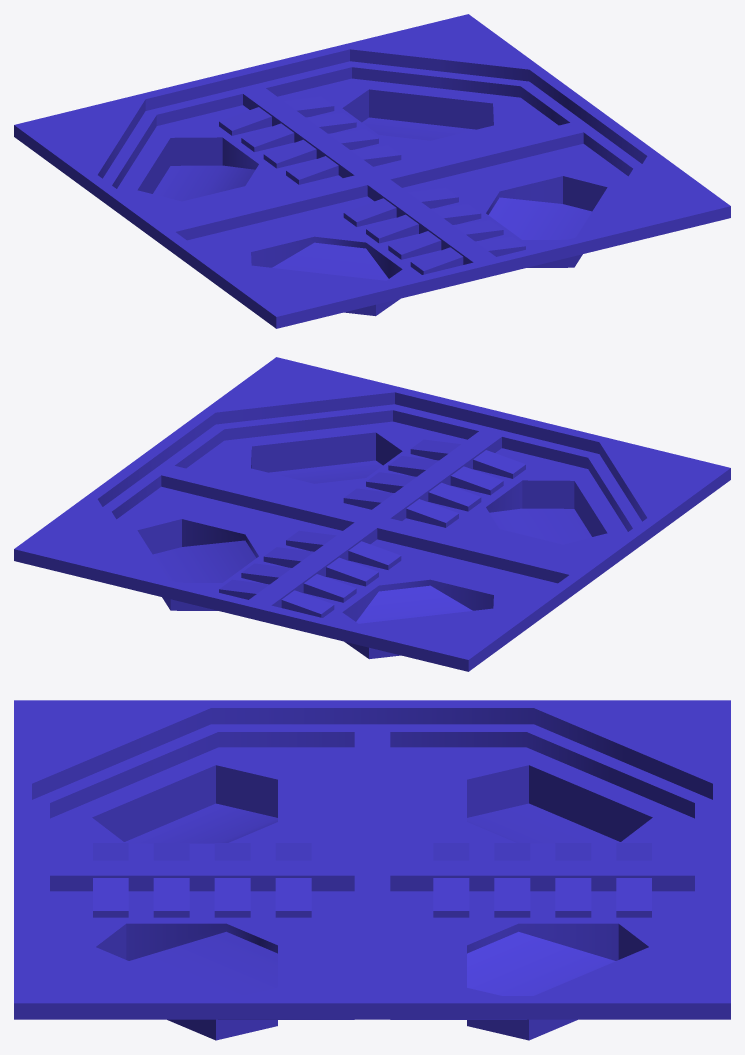
The model's file is Ceiling_A_4x4m.FBX.
3 views of the same model, one above another, from view 1: azimuth 30°, elevation 25°; view 2: azimuth 150°, elevation 25°; view 3: azimuth 270°, elevation 25° (orthographic). The views are drawn at different scales.
Visible parts, largest first — view 1: Ceiling_A_4x4m; view 2: Ceiling_A_4x4m; view 3: Ceiling_A_4x4m.
Part boxes in pixels (x1=…): Ceiling_A_4x4m: x1=14, y1=14, x2=730, y2=328; Ceiling_A_4x4m: x1=14, y1=357, x2=730, y2=671; Ceiling_A_4x4m: x1=14, y1=700, x2=730, y2=1040.
Size of the model in its own units: 400 by 43.13 by 400.
